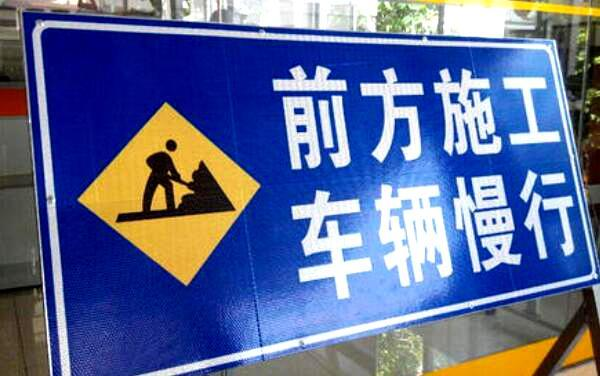sign: (38, 21, 586, 354)
